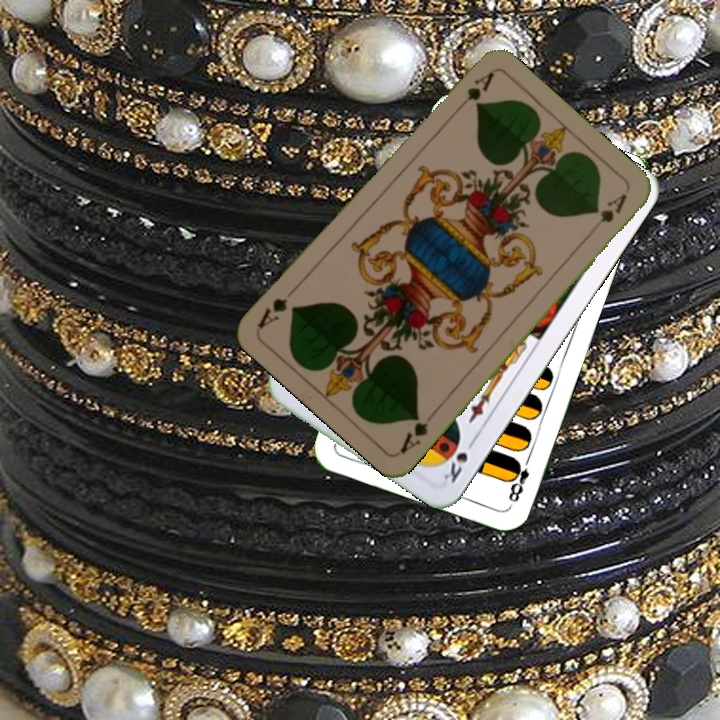E8: (504, 451, 534, 505)
GA: (451, 68, 497, 116), (395, 406, 439, 456)
SK: (439, 433, 479, 486)
